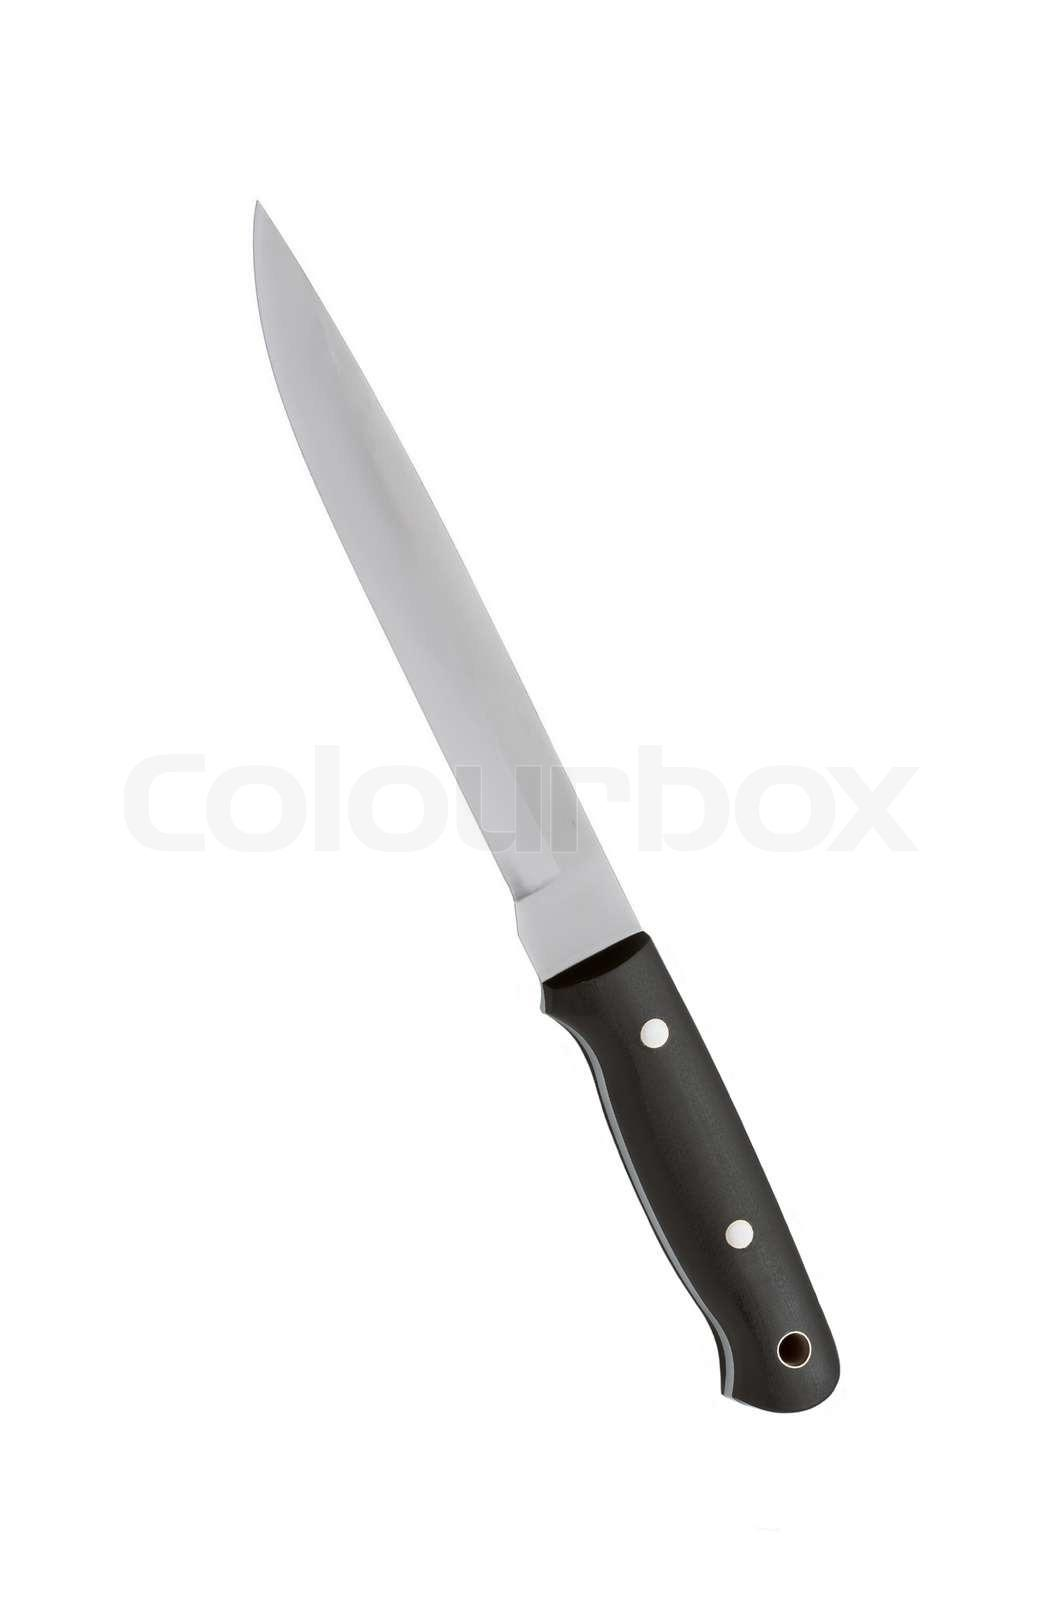Knife: (248, 198, 841, 1413)
